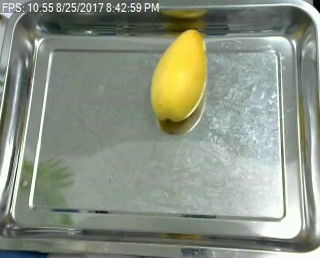Mango: (149, 27, 207, 124)
